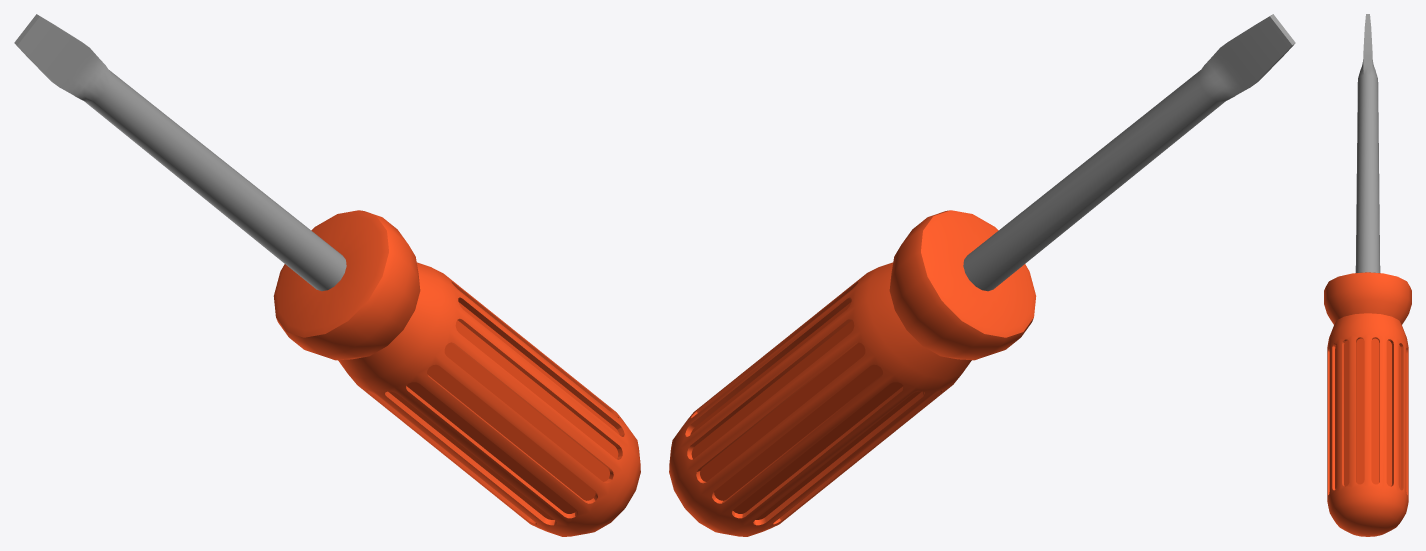
The model's file is screwdriver.glb.
3 renders of one model, left to right at view 1: azimuth 30°, elevation 25°; view 2: azimuth 150°, elevation 25°; view 3: azimuth 270°, elevation 25°, orthographic. The views are drawn at different scales.
Visible parts, largest first — view 1: Circle.2588; view 2: Circle.2588; view 3: Circle.2588.
Boxes of the visible parts, left/top/right/bottom form: Circle.2588: left=14, top=14, right=640, bottom=536; Circle.2588: left=669, top=14, right=1295, bottom=536; Circle.2588: left=1324, top=14, right=1411, bottom=536.
Size of the model in its own units: 2.24 by 2.24 by 0.48.
Materials: 1 (1 with a texture image).
